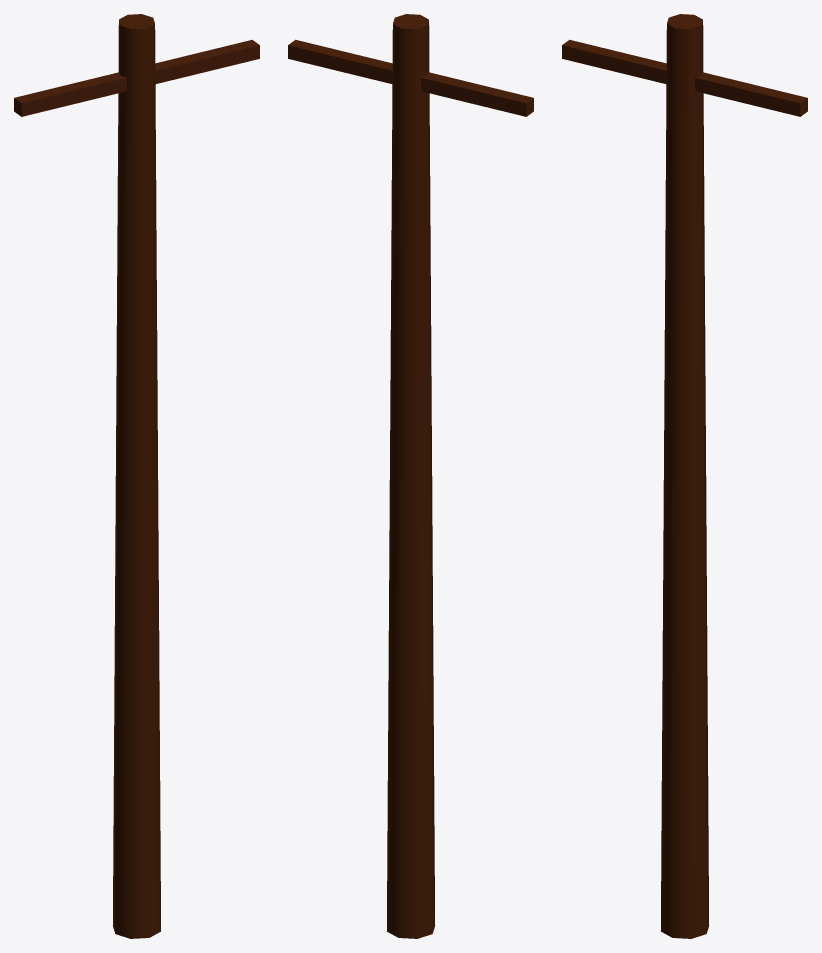
Rendered from env_utility_pole_01.glb.
3 renders of one model, left to right at view 1: azimuth 30°, elevation 25°; view 2: azimuth 150°, elevation 25°; view 3: azimuth 330°, elevation 25°, orthographic.
Parts seen in each view (by area): view 1: env_utility_pole_01; view 2: env_utility_pole_01; view 3: env_utility_pole_01.
Part boxes in pixels (box(x1,y1,x2,y2)): env_utility_pole_01: box(14, 14, 259, 938); env_utility_pole_01: box(288, 14, 533, 938); env_utility_pole_01: box(562, 14, 807, 938).
Size of the model in its own units: 2.2 by 8 by 0.4.
